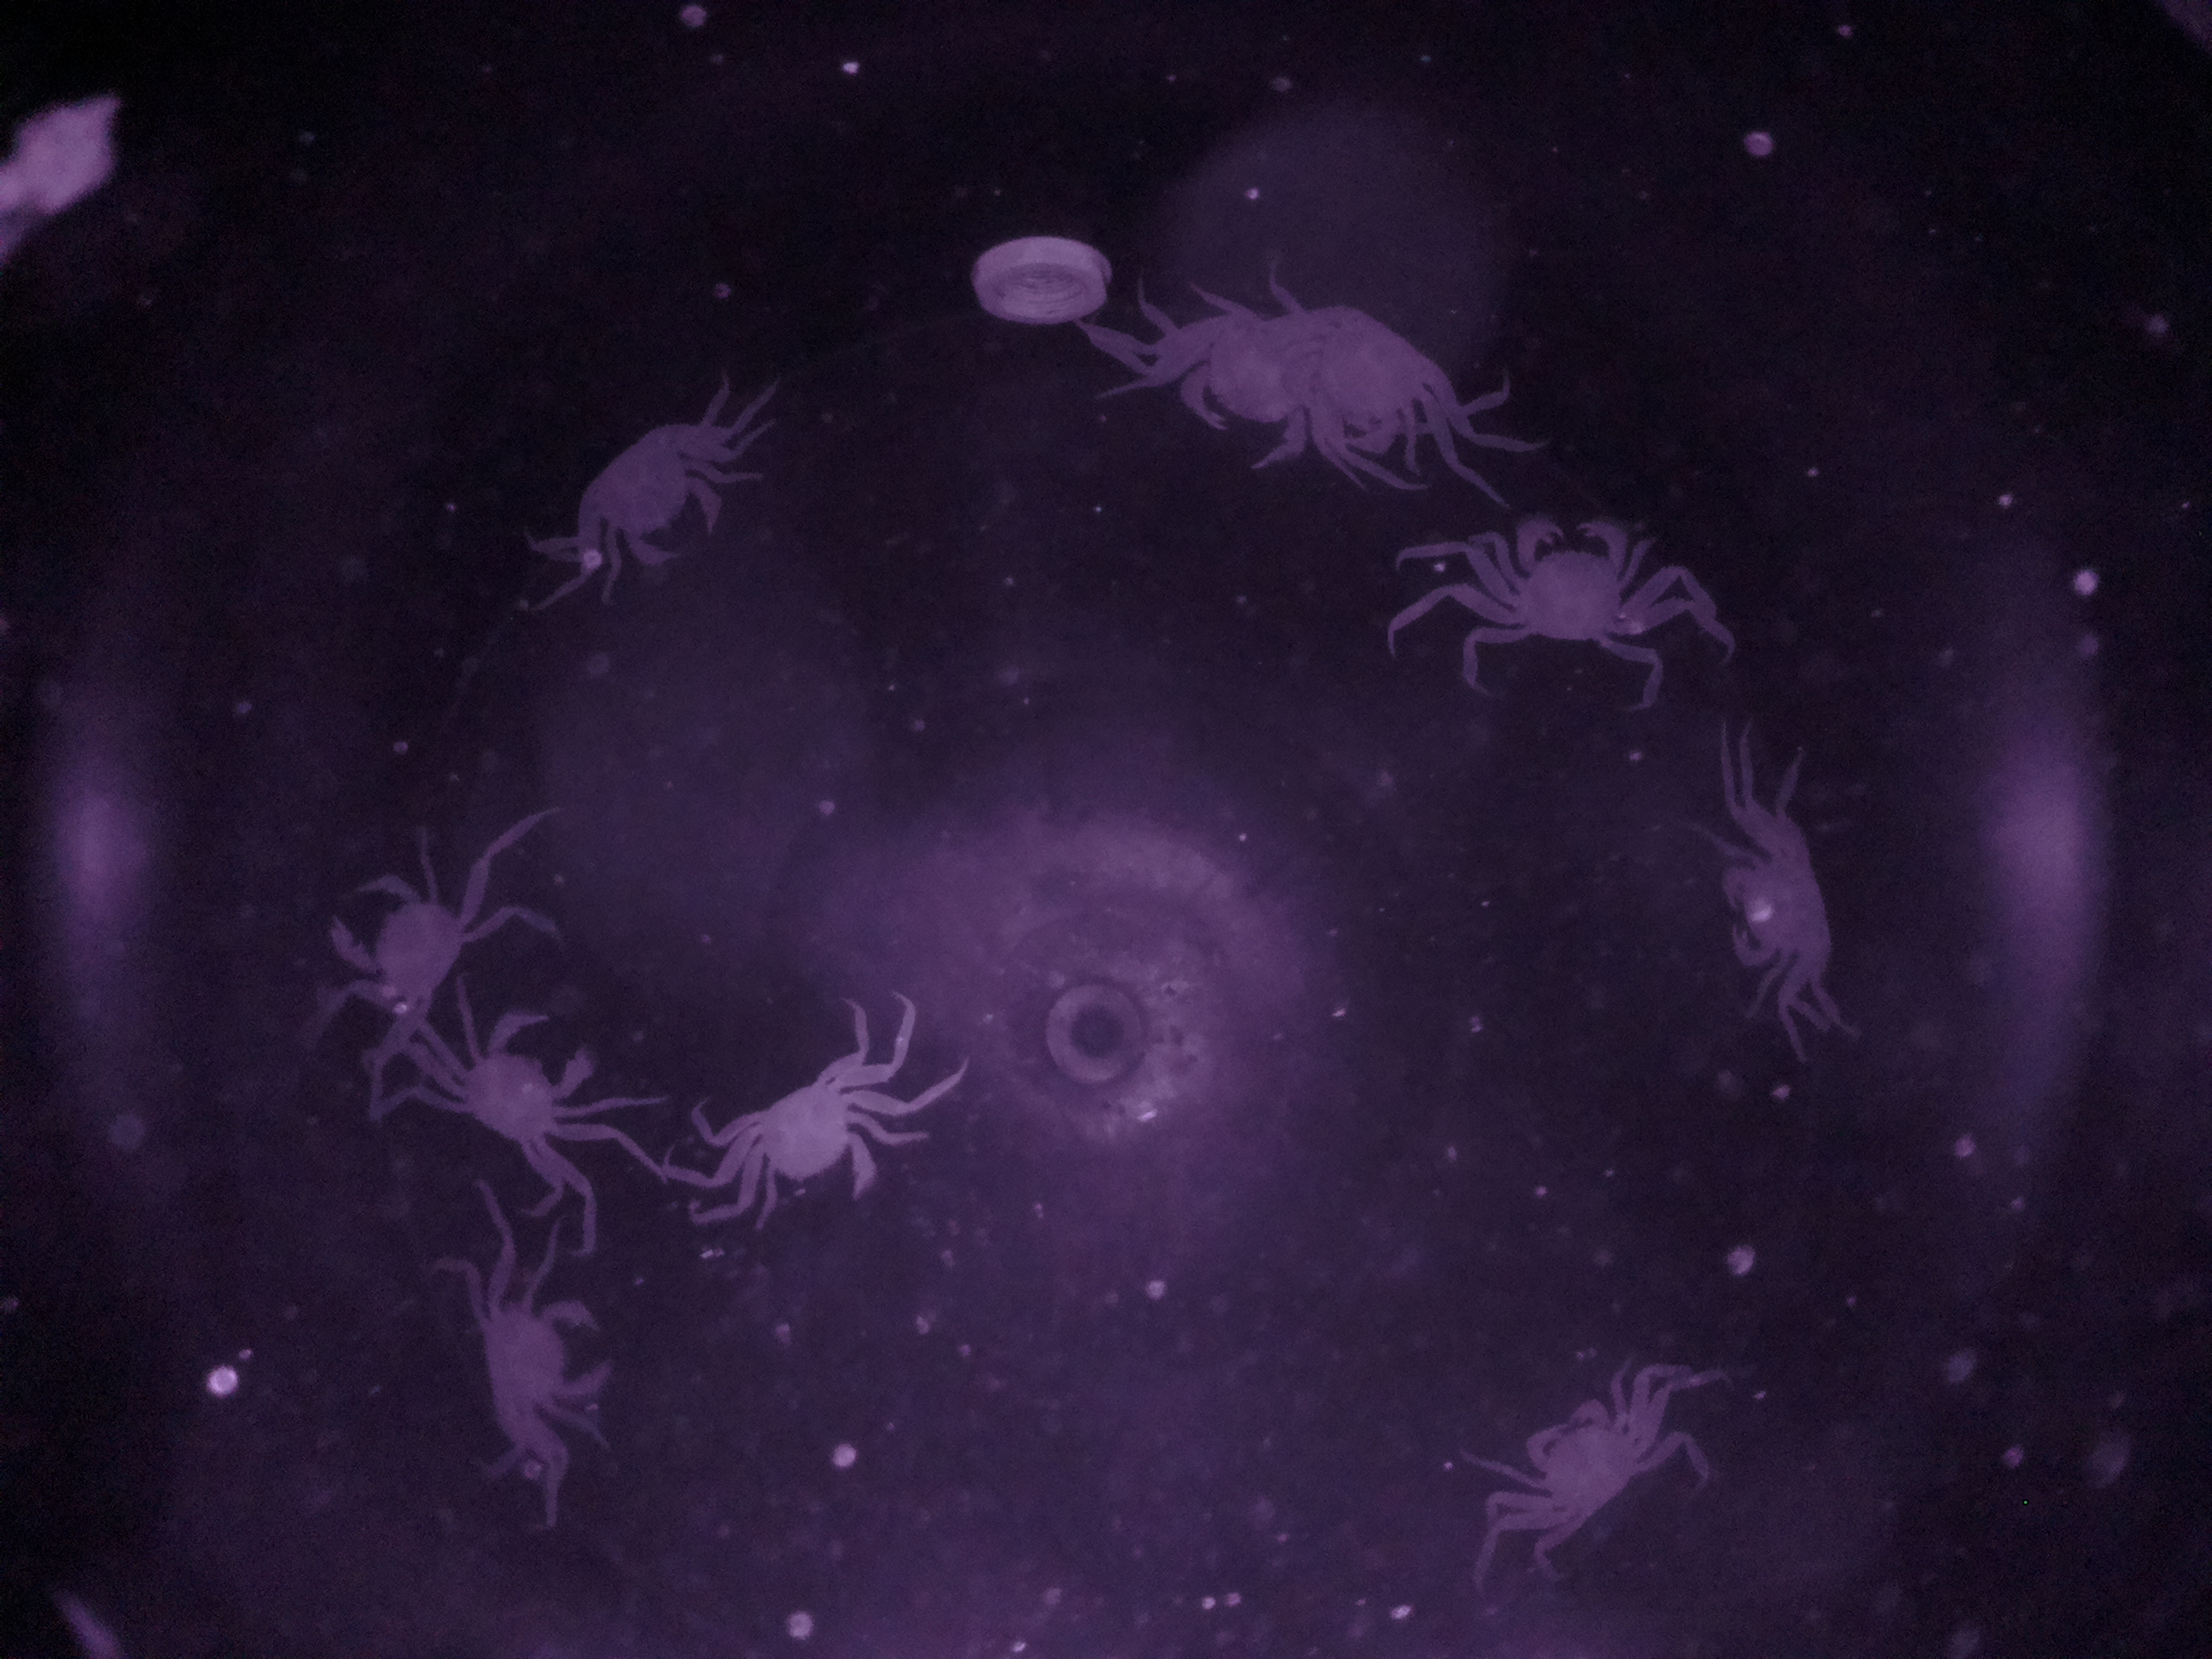Crab: (437, 1244, 636, 1445), (428, 999, 613, 1190), (547, 404, 733, 582), (1688, 817, 1860, 1007), (716, 1046, 887, 1232), (1493, 1371, 1663, 1544), (1474, 490, 1644, 659)
